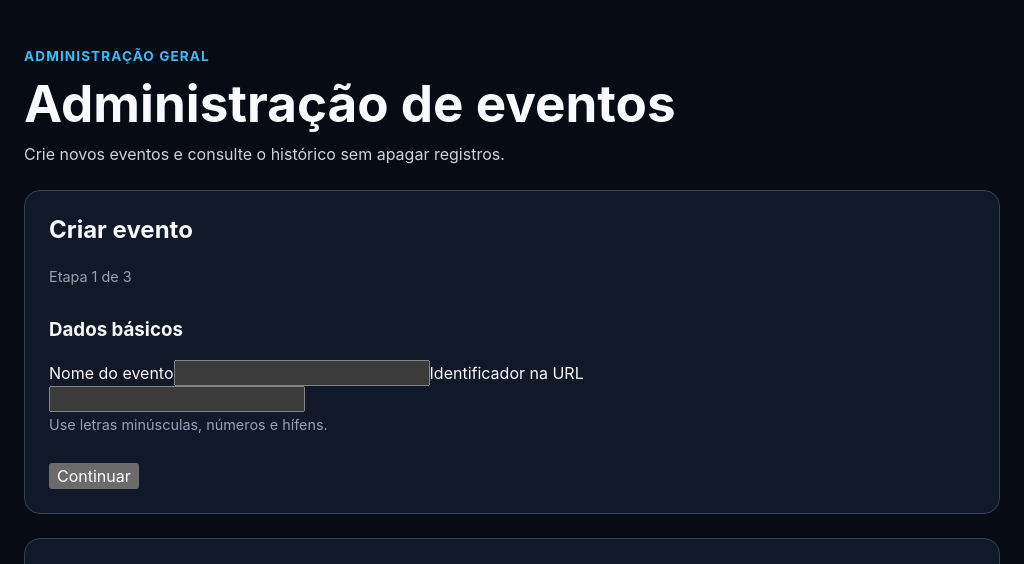
Test: event administration interactions › blocks invalid basics and requires a responsible professor before review
This screenshot has width=1024, height=564.
Click the button "Continuar" at (94, 476), box [49,463,139,489]
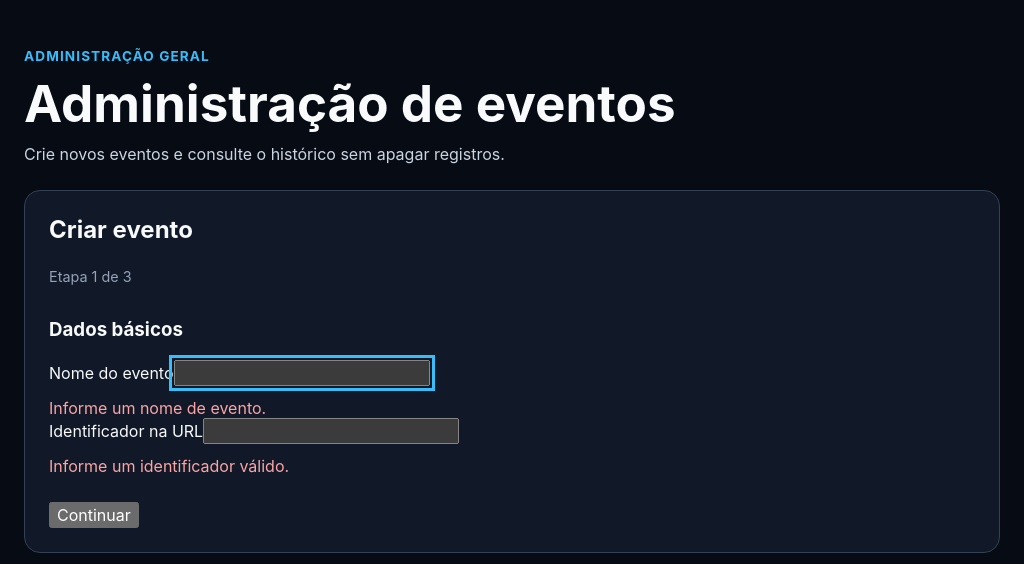
Expected: the message with id "event-slug-error" shows "Informe", [49,456,289,476]
Type "Novo evento" into the field with id "event-name" at (302, 373), box [174,360,430,386]
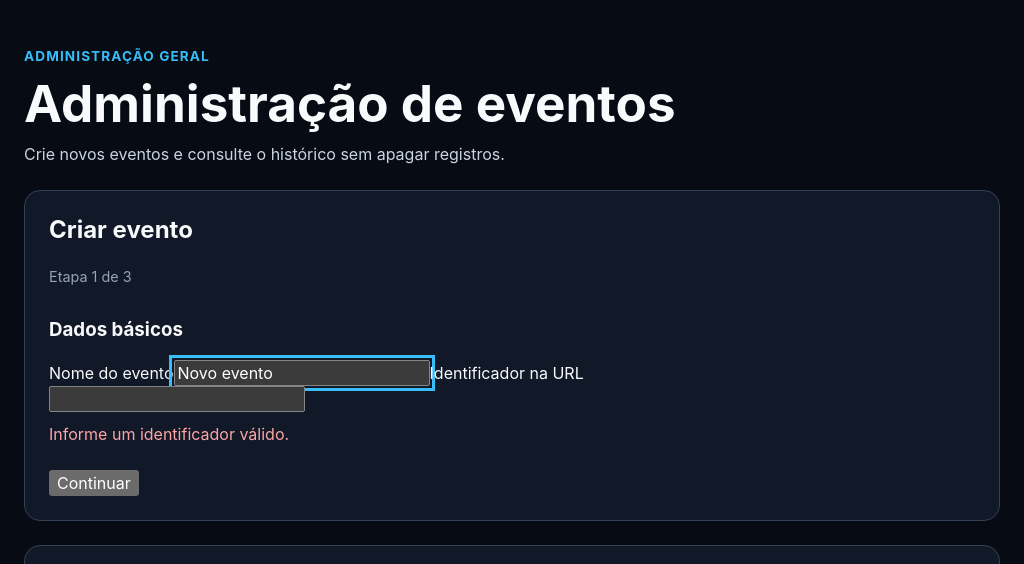
Type "novo-evento" into the field with id "event-slug" at (177, 399), box [49,386,305,412]
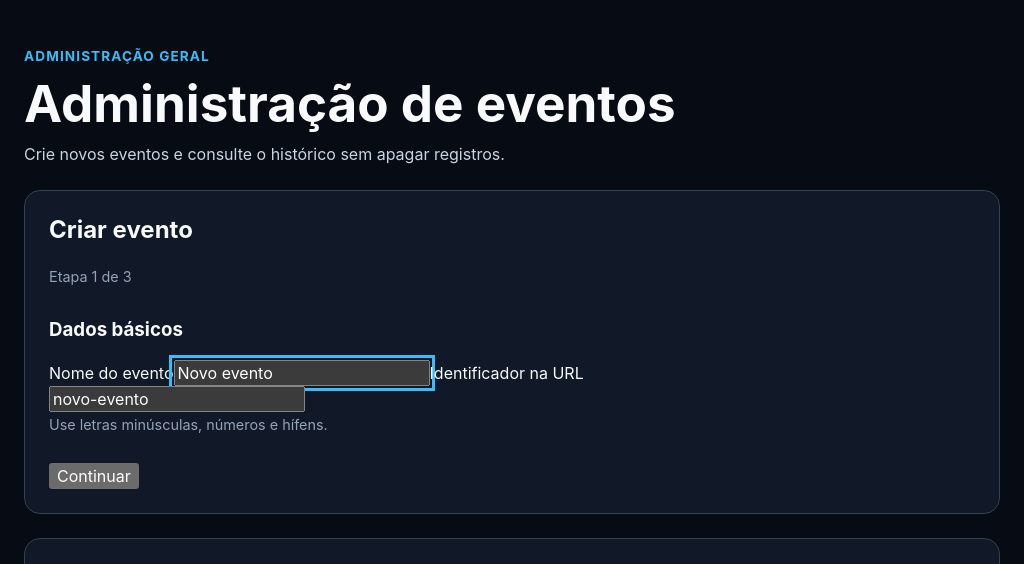
Click the button "Continuar" at (94, 476), box [49,463,139,489]
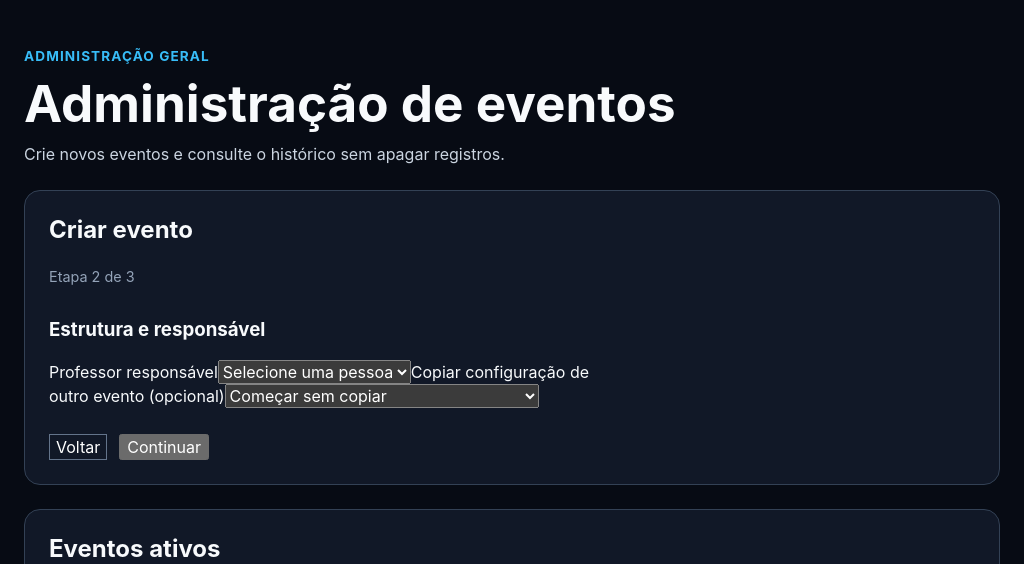
Click the button "Continuar" at (164, 447), box [119,434,209,460]
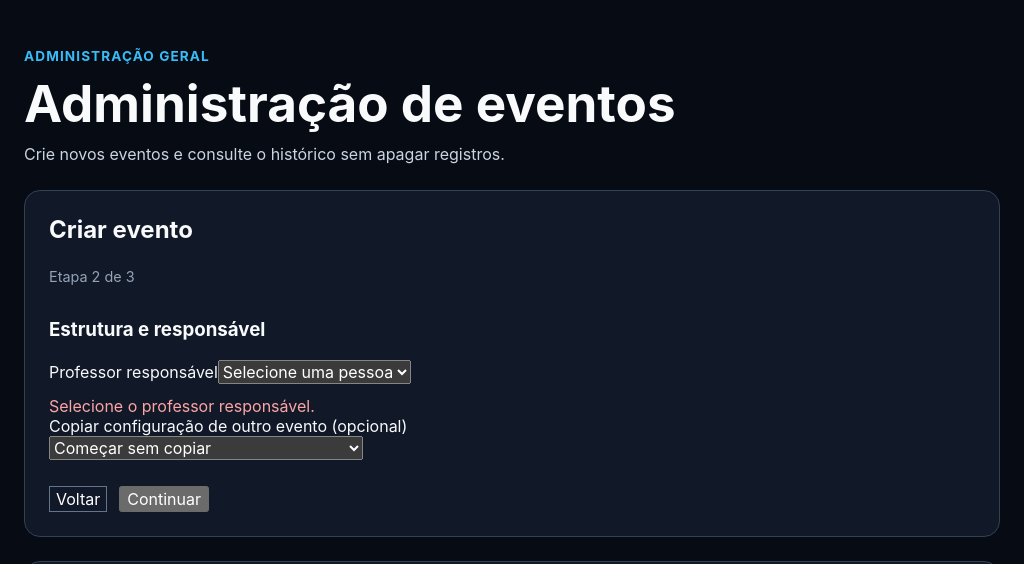
Expected: the message with id "event-professor-error" shows "Selecione", [49,396,315,416]
